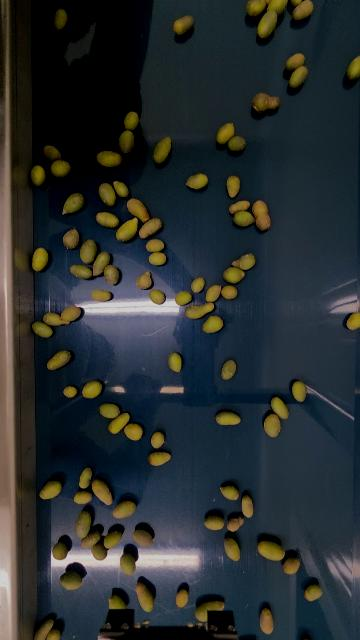Baby Potato: (256, 10, 280, 40), (251, 199, 272, 231), (91, 478, 114, 506), (135, 581, 155, 613), (107, 410, 131, 436), (116, 217, 140, 243), (257, 539, 285, 561), (151, 136, 172, 165), (252, 92, 281, 113), (126, 197, 150, 222), (184, 301, 217, 319), (61, 192, 85, 216), (97, 180, 117, 208), (139, 216, 163, 239), (287, 65, 309, 90), (46, 349, 71, 371), (96, 149, 124, 168), (39, 478, 63, 500), (291, 0, 315, 22), (171, 14, 195, 36), (214, 409, 243, 427), (91, 250, 111, 276), (79, 238, 98, 265), (33, 617, 55, 640), (258, 606, 276, 634), (112, 499, 136, 520), (74, 509, 92, 537), (59, 570, 83, 591), (270, 395, 290, 420), (263, 412, 282, 438), (31, 246, 49, 273), (117, 129, 136, 154), (216, 121, 235, 145), (285, 51, 306, 72), (201, 314, 223, 334), (233, 252, 256, 271), (96, 211, 120, 229), (245, 0, 270, 17), (224, 536, 241, 561), (104, 528, 124, 549), (225, 174, 241, 200), (31, 320, 54, 338), (223, 266, 246, 284), (52, 7, 69, 31), (232, 210, 256, 227), (346, 53, 360, 82), (132, 528, 153, 547), (60, 305, 81, 324), (50, 159, 71, 178), (82, 380, 103, 399), (186, 172, 208, 190), (103, 264, 121, 286), (98, 402, 121, 419), (62, 228, 80, 249), (220, 359, 237, 381), (148, 450, 171, 466), (291, 380, 307, 403), (30, 164, 46, 187), (70, 263, 93, 279), (304, 583, 323, 602), (124, 422, 143, 441), (283, 555, 301, 575), (240, 494, 255, 518), (81, 530, 101, 548), (123, 110, 140, 131), (167, 351, 183, 373), (199, 599, 226, 612), (204, 514, 224, 531), (136, 270, 153, 290), (205, 283, 222, 303), (52, 541, 69, 561), (79, 466, 93, 490), (120, 552, 135, 574), (228, 134, 246, 152), (269, 0, 289, 16), (150, 430, 166, 450), (43, 310, 63, 326), (145, 238, 166, 253), (90, 288, 112, 302), (229, 199, 251, 213), (43, 144, 62, 160), (226, 516, 245, 532), (91, 542, 107, 561), (174, 290, 193, 306), (194, 602, 209, 622), (346, 310, 360, 331), (221, 283, 238, 300), (149, 288, 166, 305), (113, 180, 129, 198), (220, 485, 239, 500), (175, 588, 189, 608), (73, 490, 93, 504), (108, 594, 126, 609), (148, 251, 166, 266), (190, 276, 205, 293), (63, 384, 78, 399), (46, 627, 61, 640), (287, 0, 304, 7)
